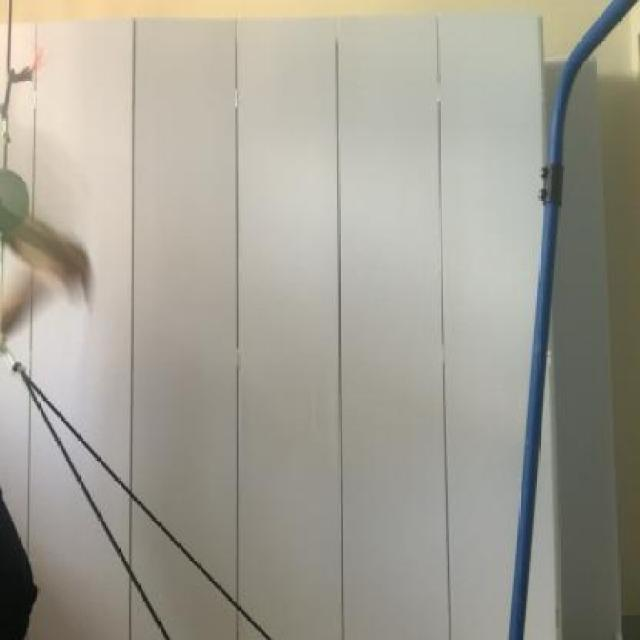baseball: (0, 150, 40, 272)
